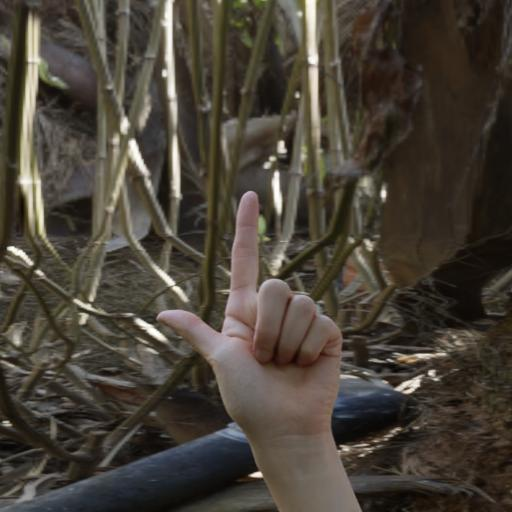L: (141, 188, 350, 512)
